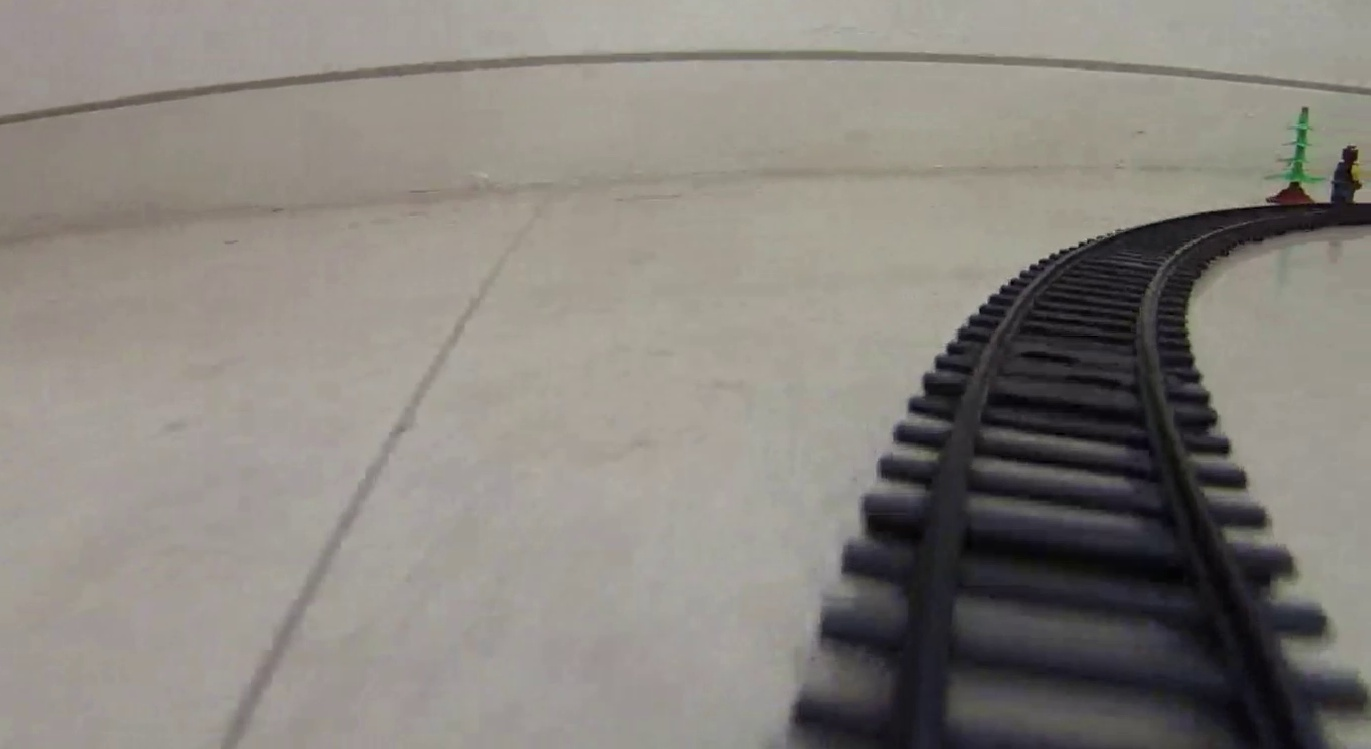tree: (1264, 105, 1323, 204)
